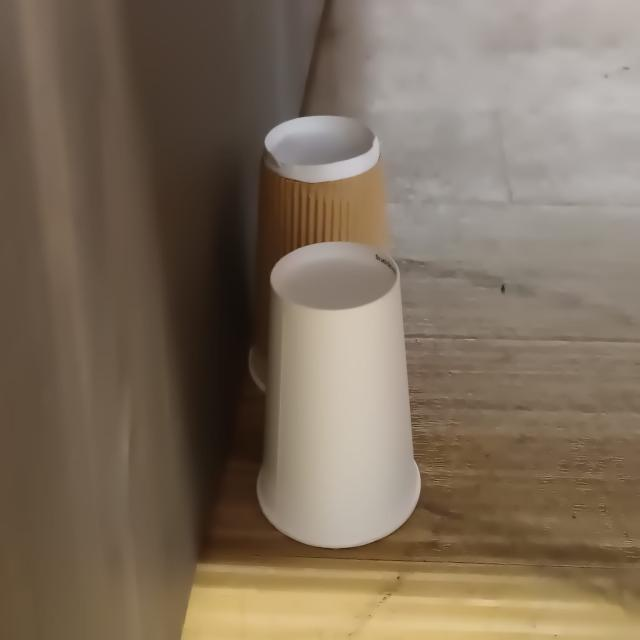Browncup: (250, 116, 389, 386)
Whitecup: (257, 241, 421, 548)
